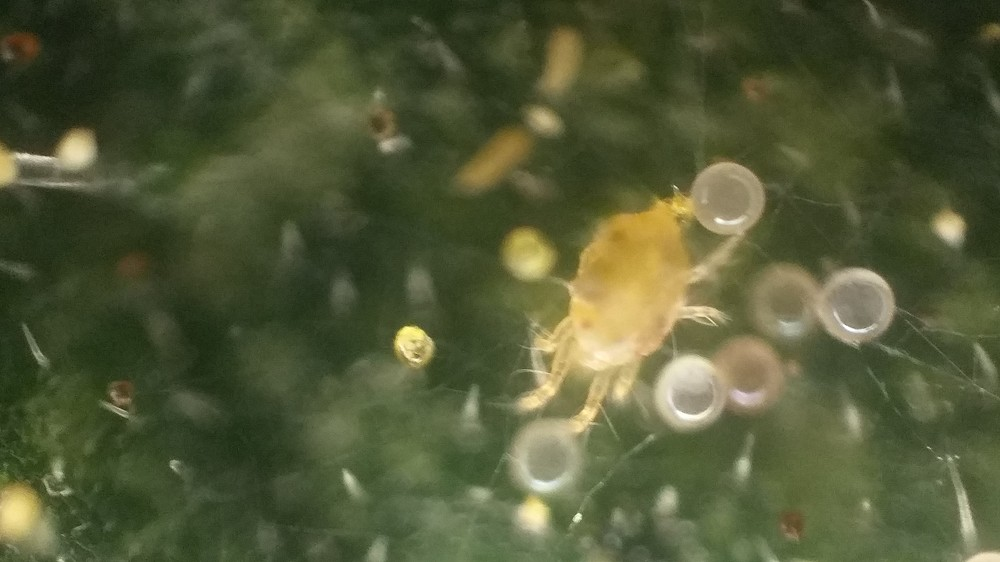Aracnido Rojo: (489, 178, 733, 452)
